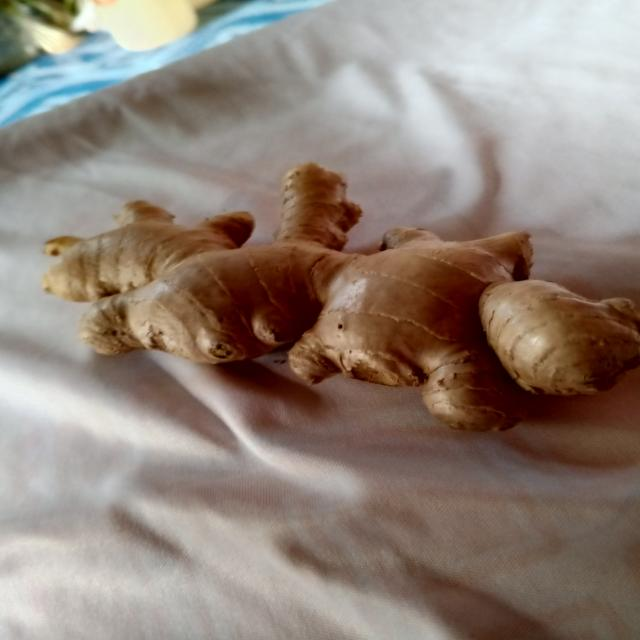ginger: (38, 152, 640, 453)
